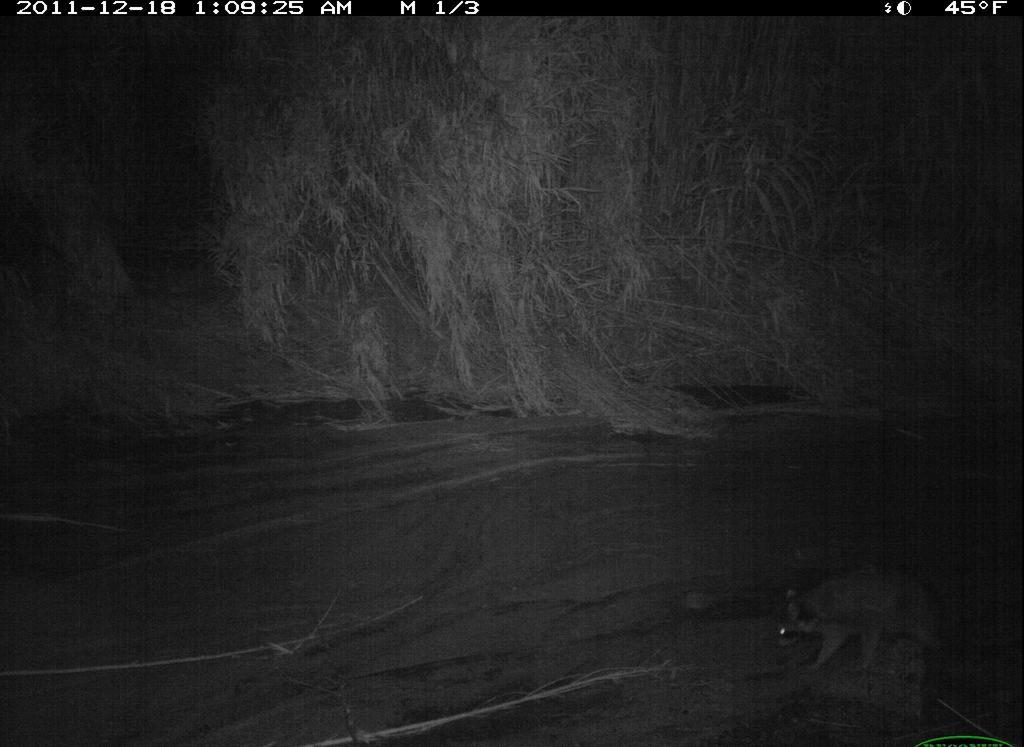raccoon: (760, 552, 971, 675)
